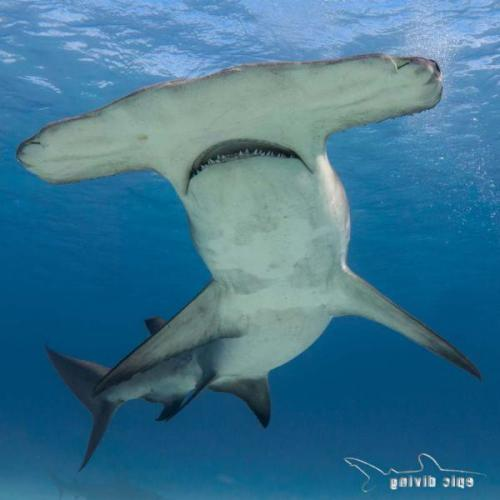shark-endangered: (18, 50, 483, 474)
